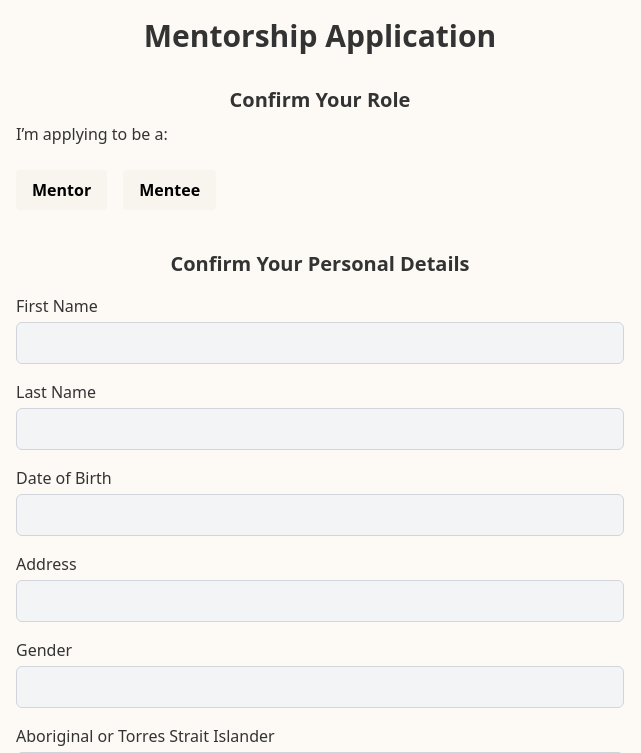
Test: disables Next button until a role is selected
The image size is (641, 753).
Click the button "Mentee". click: (170, 190)
box: [123,170,216,210]
(page scrolled)
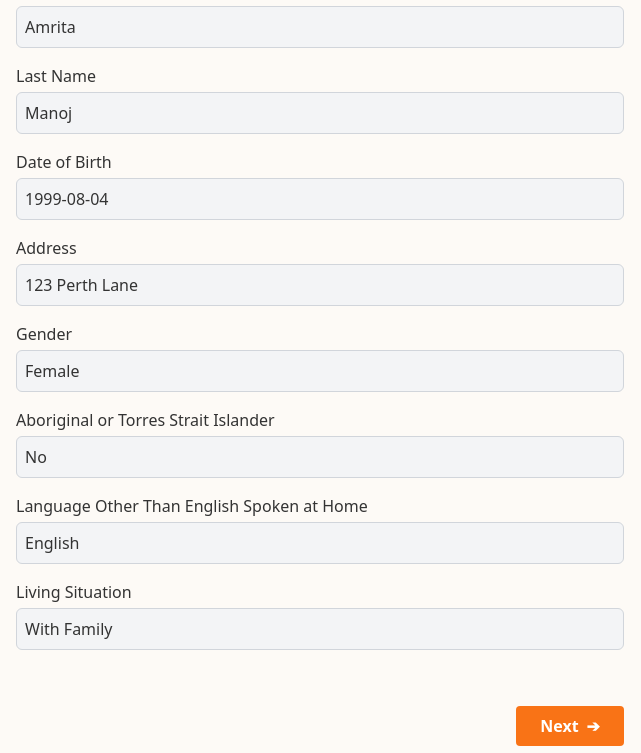
Expected: the button "Next ➔" is enabled, [516,706,624,746]
